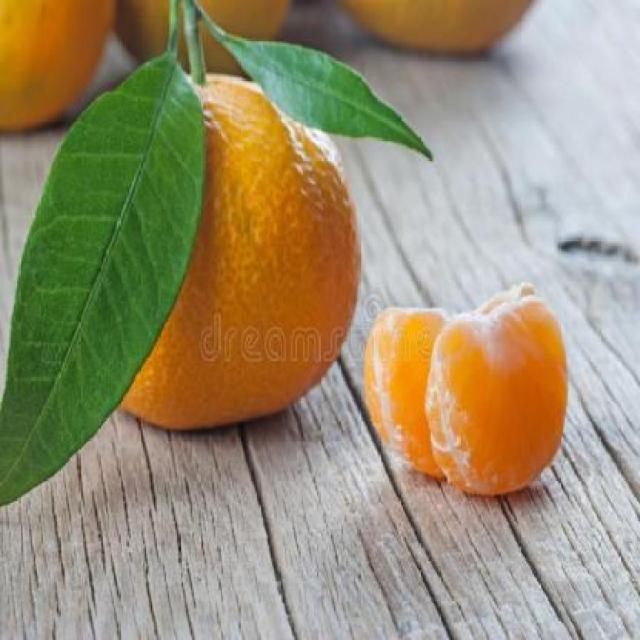Orange: (114, 71, 361, 431)
